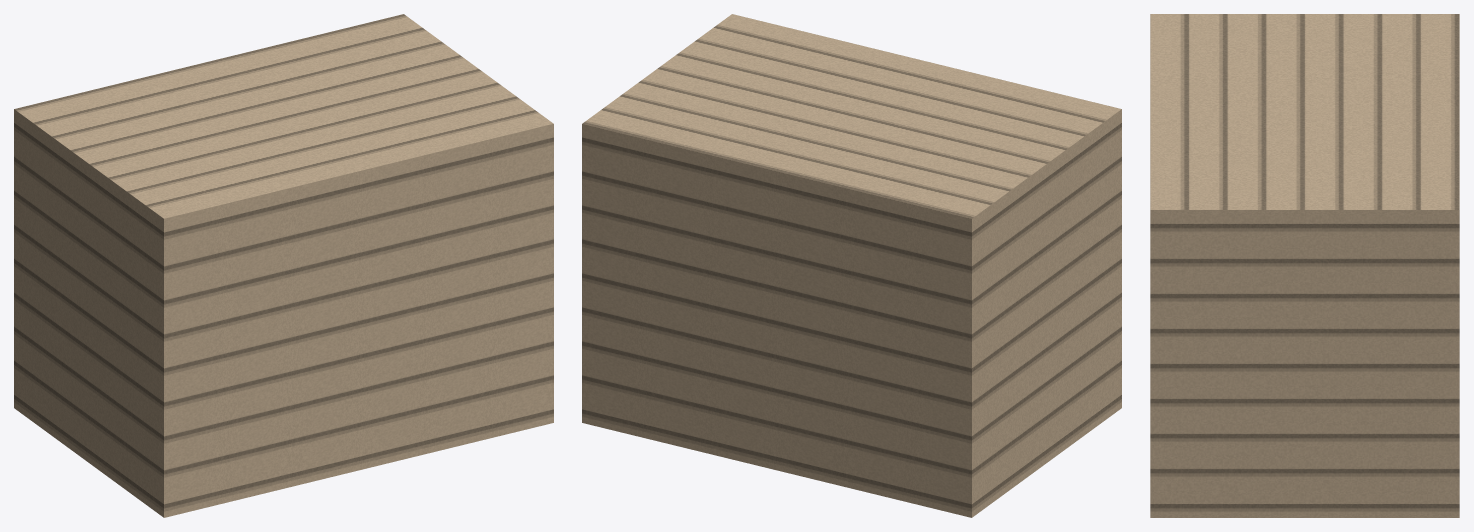
The model's file is cart_corral.glb.
3 views of the same model, side by side, from view 1: azimuth 30°, elevation 25°; view 2: azimuth 150°, elevation 25°; view 3: azimuth 270°, elevation 25° (orthographic). The views are drawn at different scales.
Visible parts, largest first — view 1: cart_corral-col; view 2: cart_corral-col; view 3: cart_corral-col.
Boxes of the visible parts, x1=… form: cart_corral-col: x1=14, y1=14, x2=553, y2=517; cart_corral-col: x1=582, y1=14, x2=1121, y2=517; cart_corral-col: x1=1150, y1=14, x2=1459, y2=517.
Bounding box in the file's own units: 1.5 × 1.1 × 1.
Materials: 1 (1 with a texture image).
